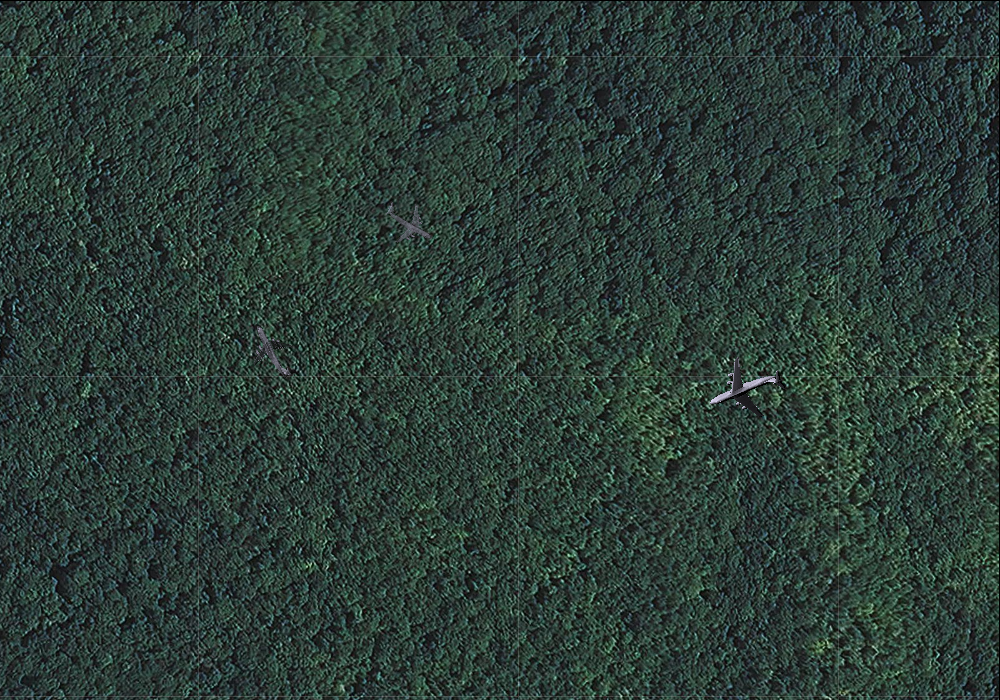plane: (697, 342, 796, 439), (236, 312, 310, 390), (374, 188, 445, 257)
